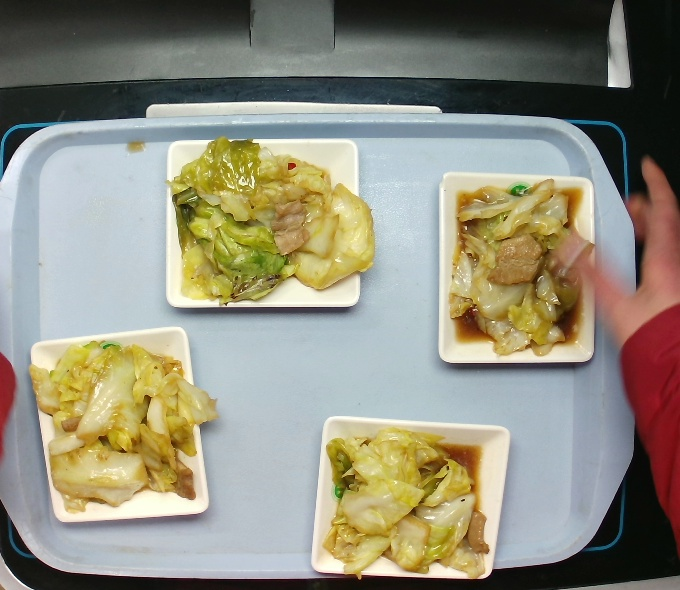wcq-JuanXinCaiChaoRou: (25, 333, 224, 526), (169, 131, 385, 308), (440, 175, 605, 359), (320, 421, 506, 584)
